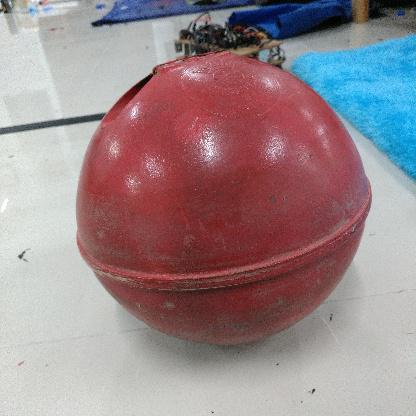red_buoy: (74, 50, 374, 350)
